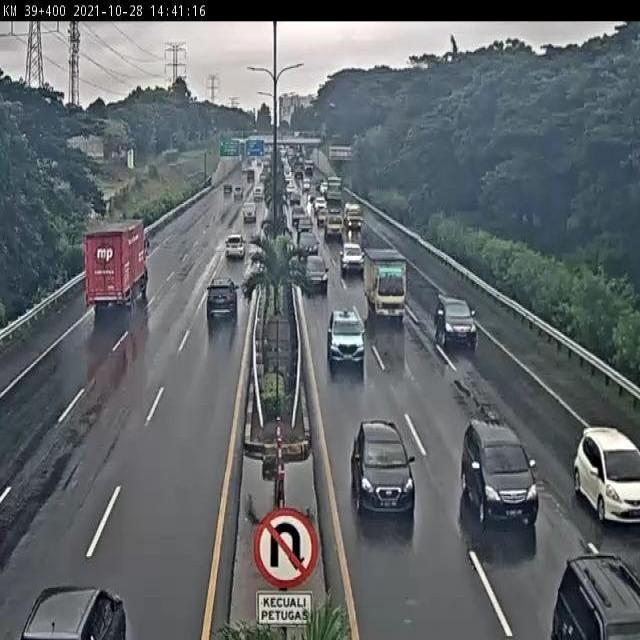car: (461, 419, 542, 525), (573, 425, 640, 524), (351, 420, 416, 520), (434, 294, 477, 350), (328, 310, 364, 366), (207, 276, 239, 320), (302, 254, 329, 294), (338, 242, 364, 278), (225, 234, 246, 258)
mid truck: (84, 220, 149, 309)
truck-m-: (363, 249, 409, 320)
